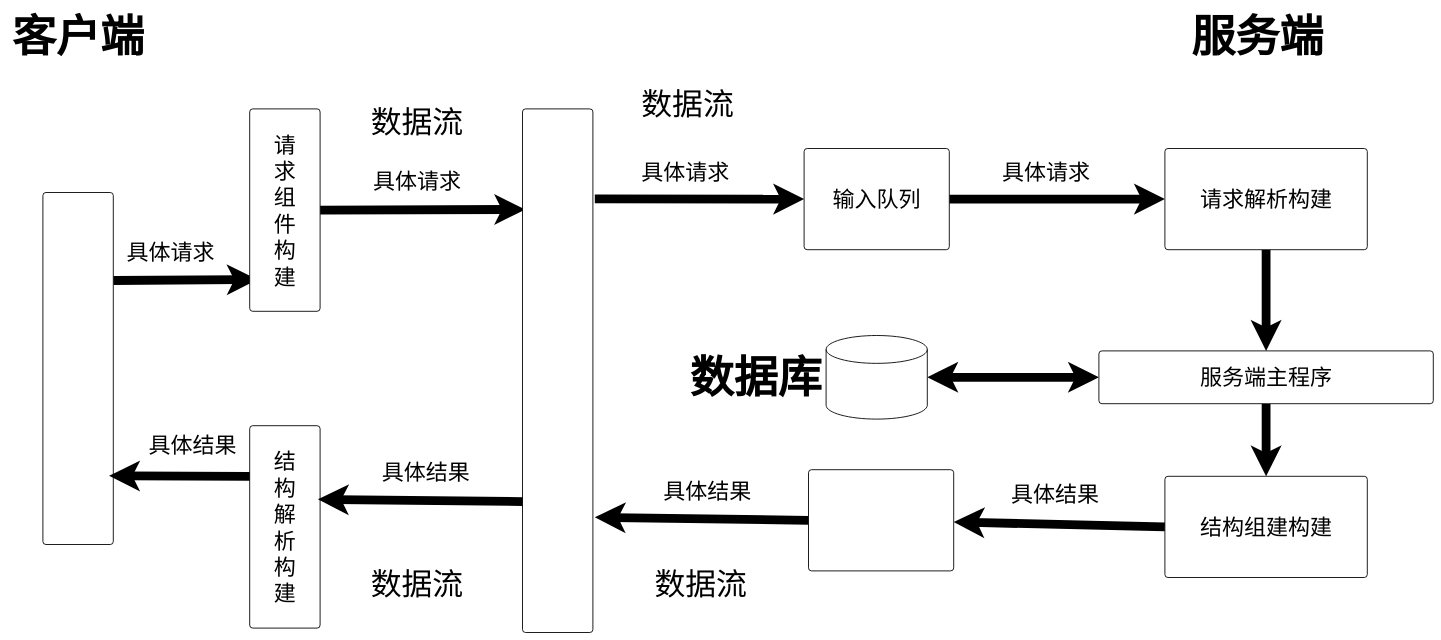
This 1441x640 diagram has some shape labels left out. The centre of each missing label's shape, as x and y in pixels:
用 户 界 面 主 程 序: pixel 78 368
网 络: pixel 557 370
输出队列: pixel 881 520
